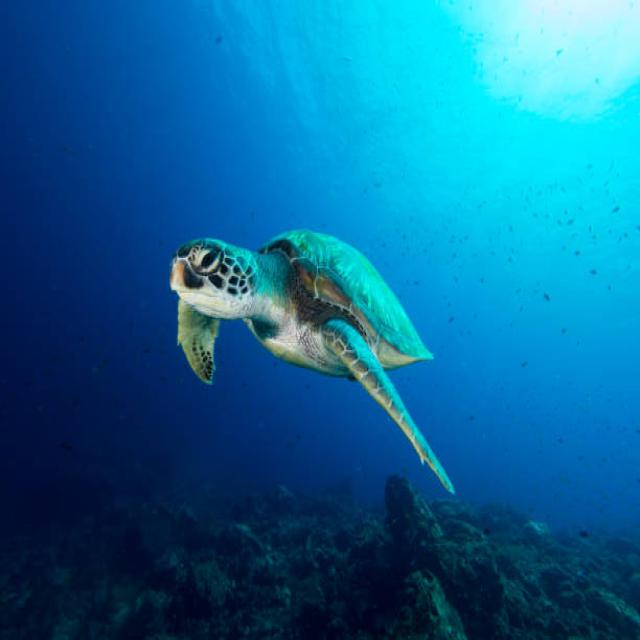sea turtle: (328, 325, 465, 506), (265, 198, 420, 319), (165, 289, 226, 401)
